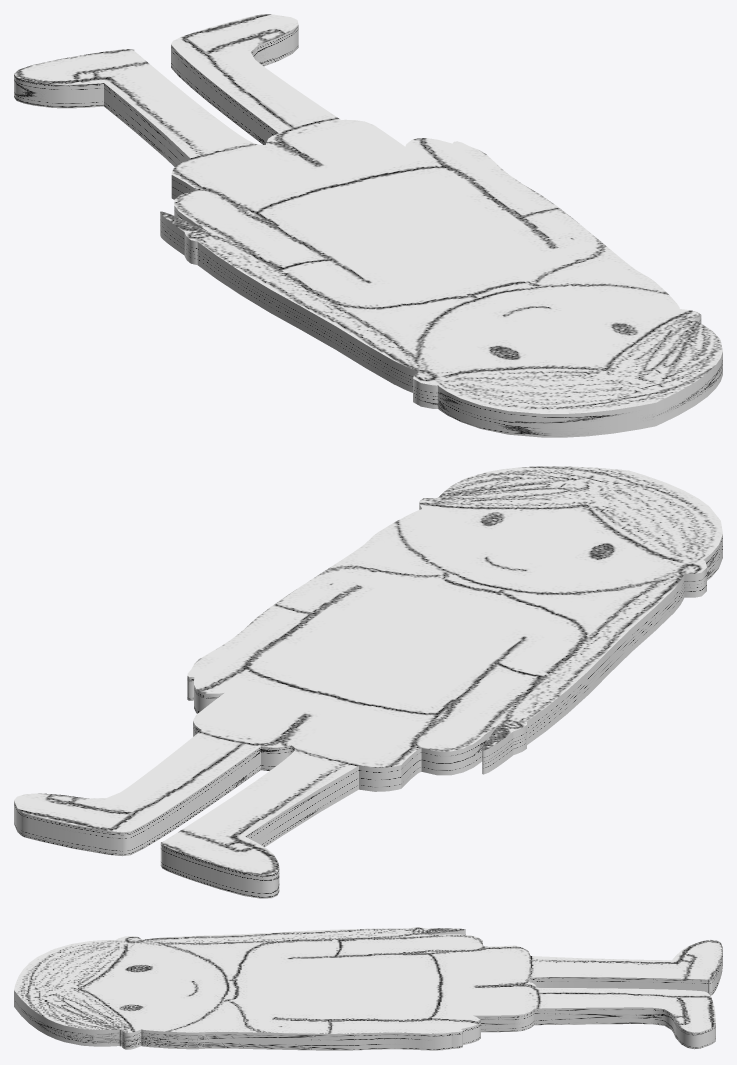
Rendered from girl2.obj.
The picture shows the model from 3 angles, top to bottom: view 1: azimuth 30°, elevation 25°; view 2: azimuth 150°, elevation 25°; view 3: azimuth 270°, elevation 25°; orthographic projection. The views are drawn at different scales.
Visible parts, largest first — view 1: Spline_Object; view 2: Spline_Object; view 3: Spline_Object.
Part boxes in pixels (x1,y1,x2,y2): Spline_Object: (14, 14, 722, 437); Spline_Object: (14, 466, 722, 898); Spline_Object: (14, 927, 722, 1050).
Bounding box in the file's own units: 75.5 × 5.5 × 212.
Materials: 3 (3 with a texture image).
